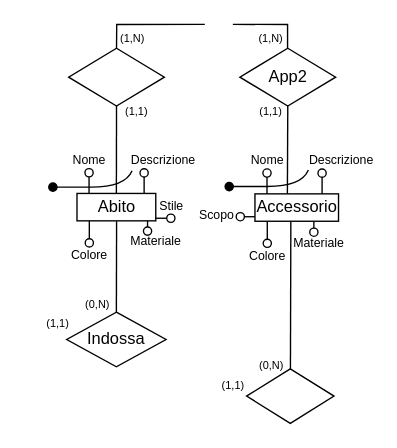
The diagram is 397 pixels wide and 448 high, and some of its shapes have lost their labels. The shapes that lost their labels are listed below. From the top down, each one's centre as x and y in pixels, then its label:
At point 115,76: "App1".
At point 289,395: "Utilizzo".
